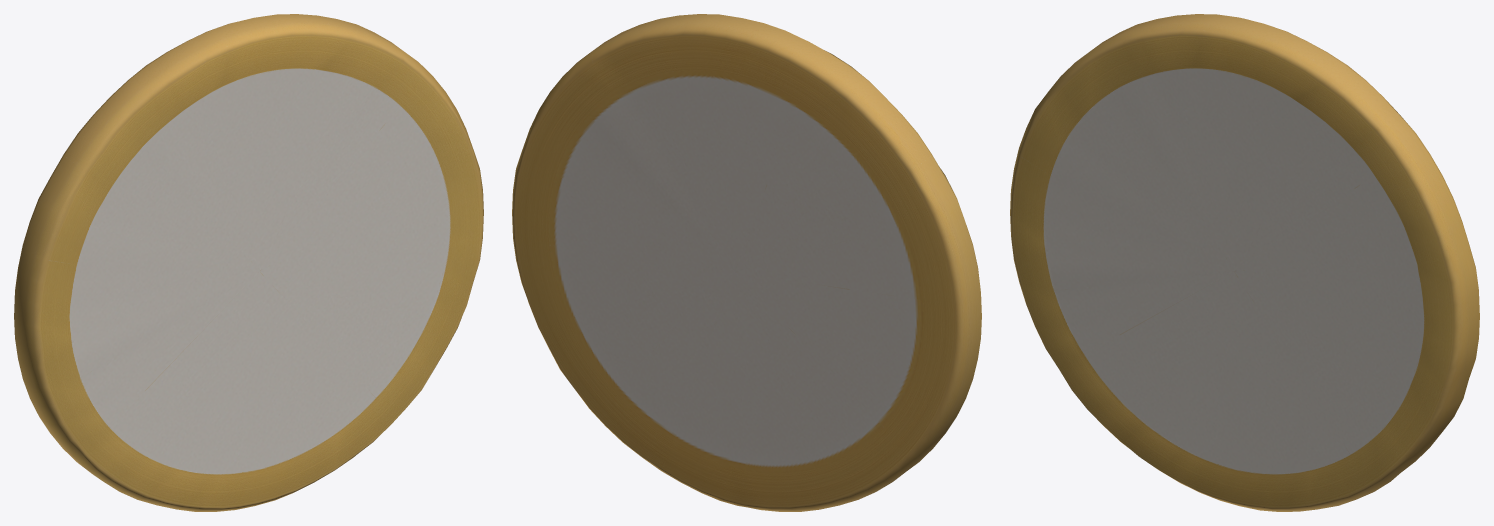
The model's file is Button.glb.
The picture shows the model from 3 angles, left to right: view 1: azimuth 30°, elevation 25°; view 2: azimuth 150°, elevation 25°; view 3: azimuth 330°, elevation 25°; orthographic projection.
Bounding box in the file's own units: 0.9546 × 0.9497 × 0.0879.
1 material, 1 textured.
